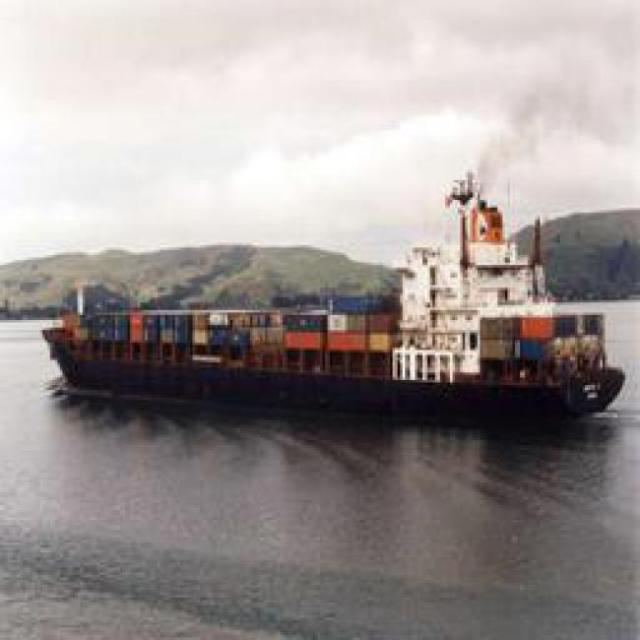boat: (19, 248, 624, 424)
